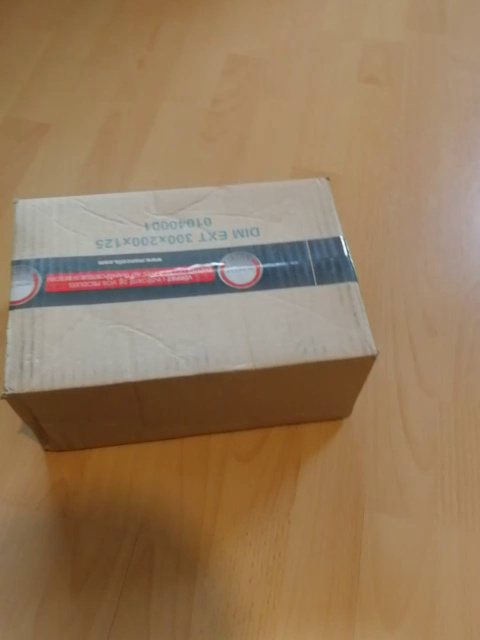good-parcel: (0, 182, 380, 458)
